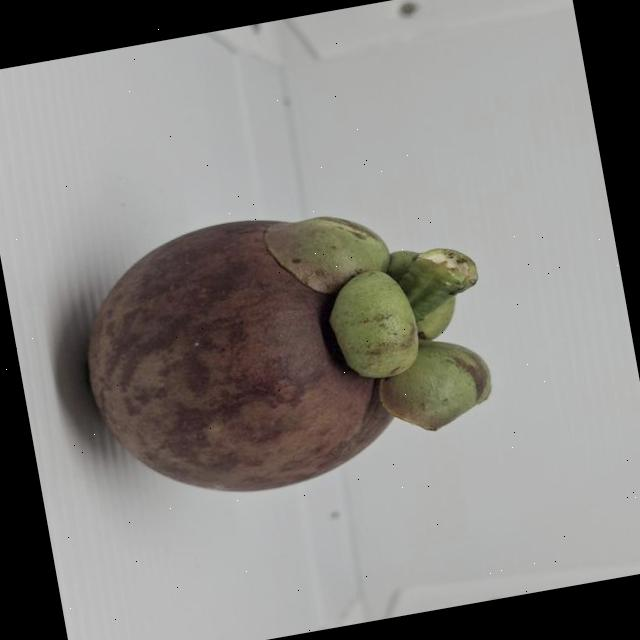mangosteen: (14, 149, 550, 571)
